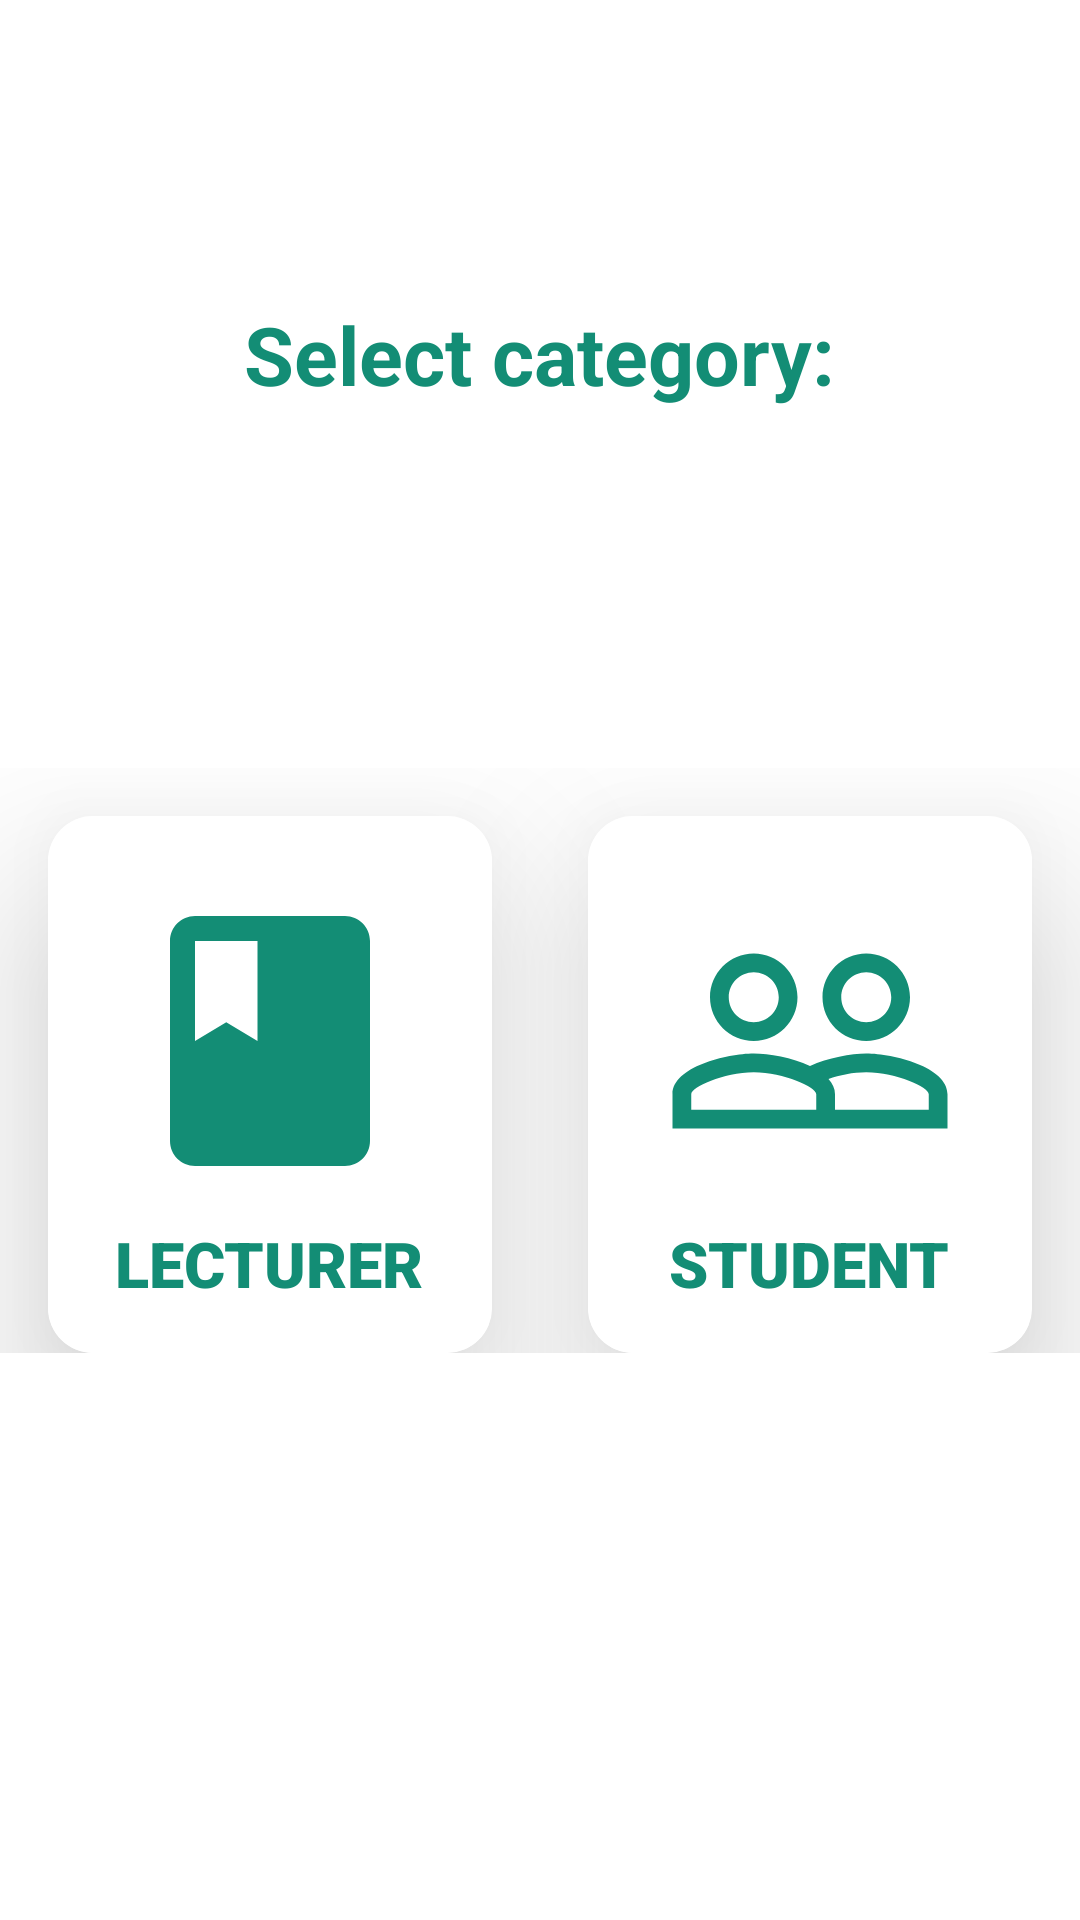

Named icons in this screenshot (1080*1920) and their bounding boxes, (x1, y1, x2, y2):
class: (170, 916, 370, 1166)
people: (672, 953, 948, 1129)
